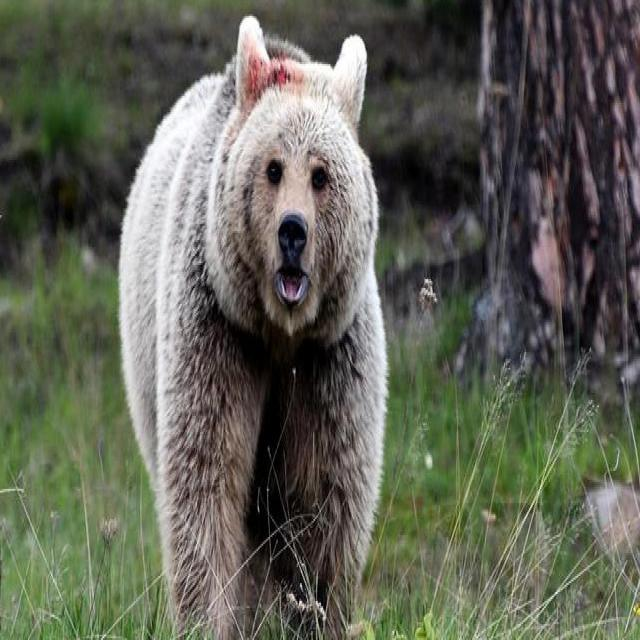Bear: (118, 15, 388, 640)
